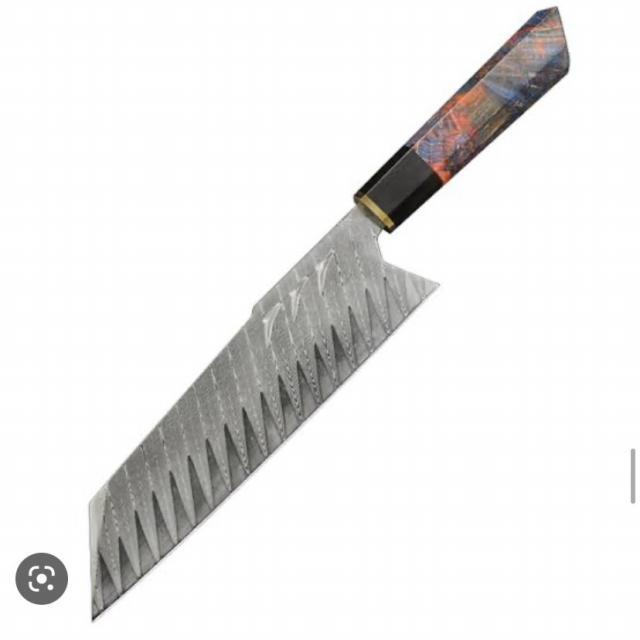Knife: (70, 2, 594, 638)
